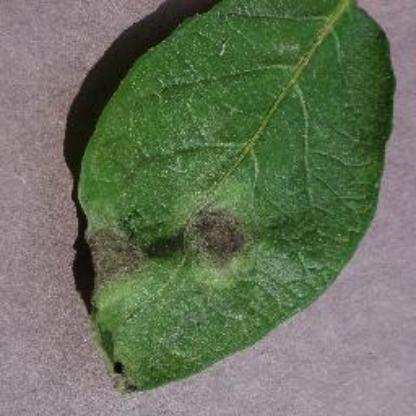Late-Blight: (63, 0, 394, 386)
